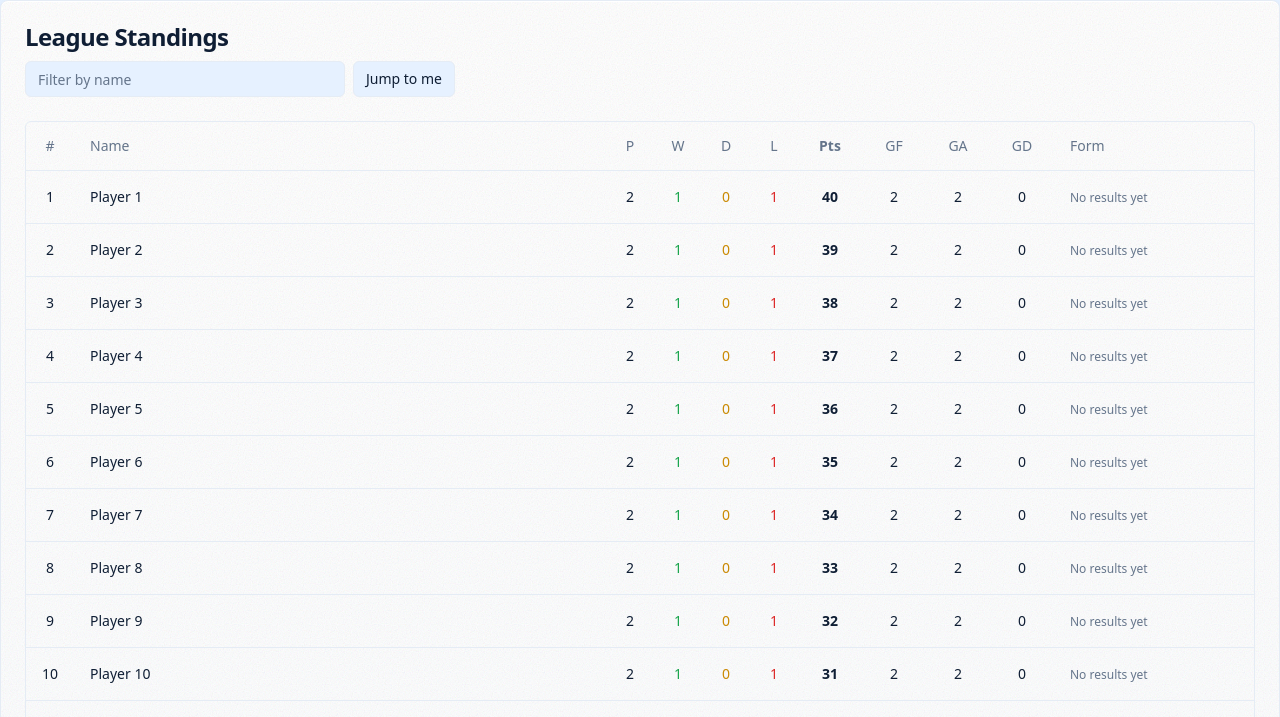
Test case: LeagueStandings at scale › narrows the table to matching names
The image size is (1280, 717).
Check: the row with test id "standing-row-1" is shown, box [26, 170, 1254, 223]
In the search field with test id "standings-filter": {"x": 185, "y": 79} [25, 61, 345, 97], type "Player 12"
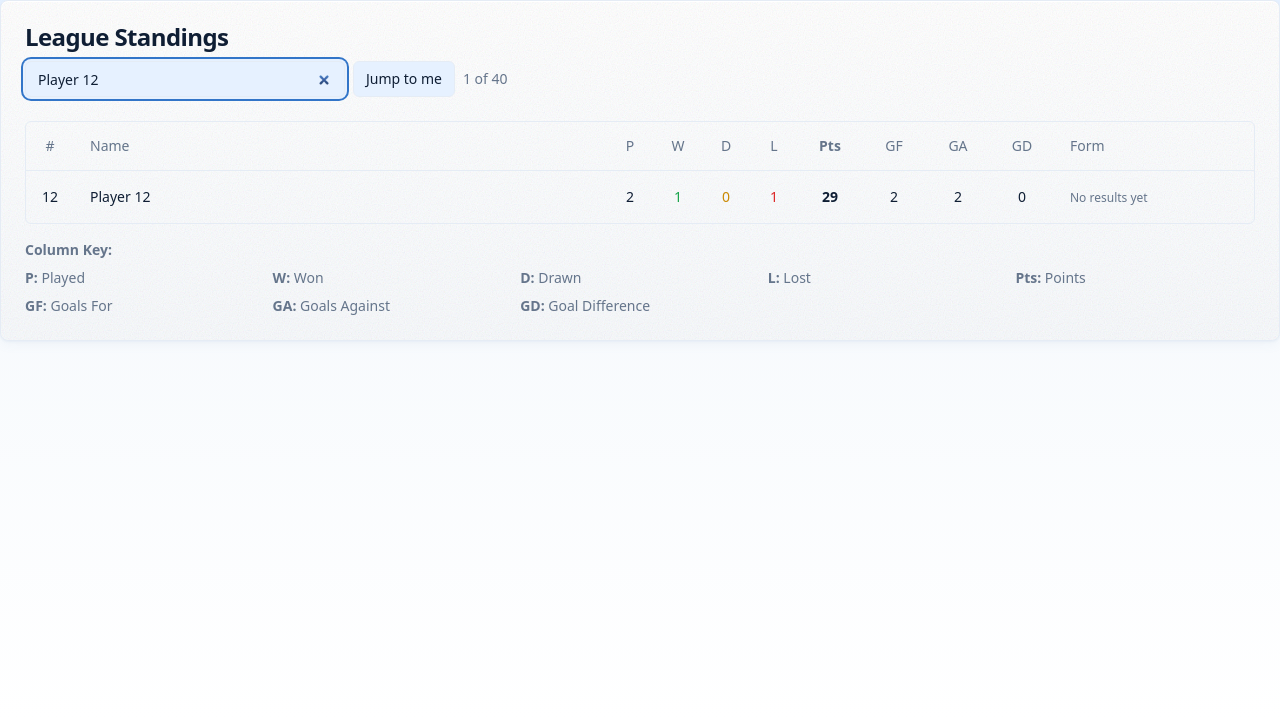
Check: the row with test id "standing-row-12" is shown, box [26, 170, 1254, 222]
Check: the row with test id "standing-row-1" is gone
Check: the message with test id "standings-filter-count" reads "1 of 40", box [463, 69, 508, 89]
